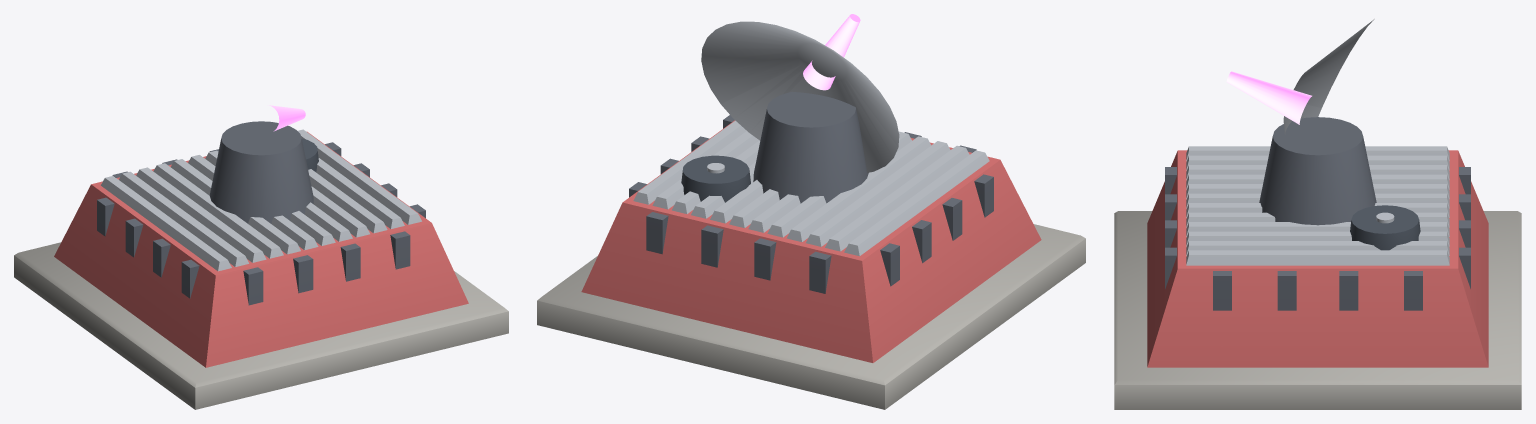
The model's file is napsis.glb.
3 renders of one model, left to right at view 1: azimuth 30°, elevation 25°; view 2: azimuth 150°, elevation 25°; view 3: azimuth 270°, elevation 25°, orthographic. The views are drawn at different scales.
Parts seen in each view (by area): view 1: Hull, Rotor; view 2: Hull, Rotor; view 3: Hull, Rotor.
Boxes of the visible parts, x1,y1,x2,y2 form: Hull: (14, 129, 508, 409); Rotor: (221, 105, 305, 155); Hull: (537, 64, 1085, 409); Rotor: (701, 14, 899, 161); Hull: (1114, 104, 1521, 409); Rotor: (1226, 19, 1374, 155).
Bounding box in the file's own units: 3.24 × 2.62 × 3.24.
